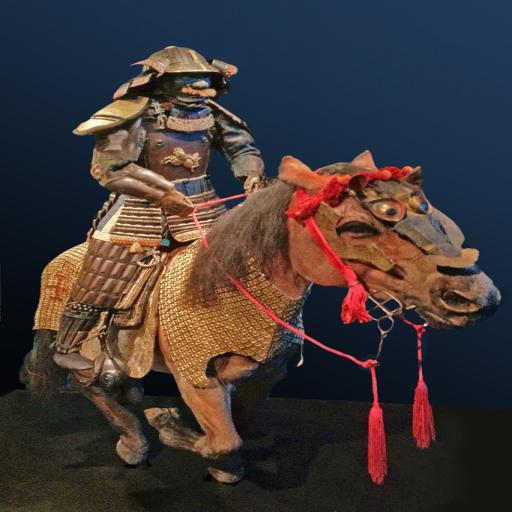Horse: (20, 150, 505, 486)
